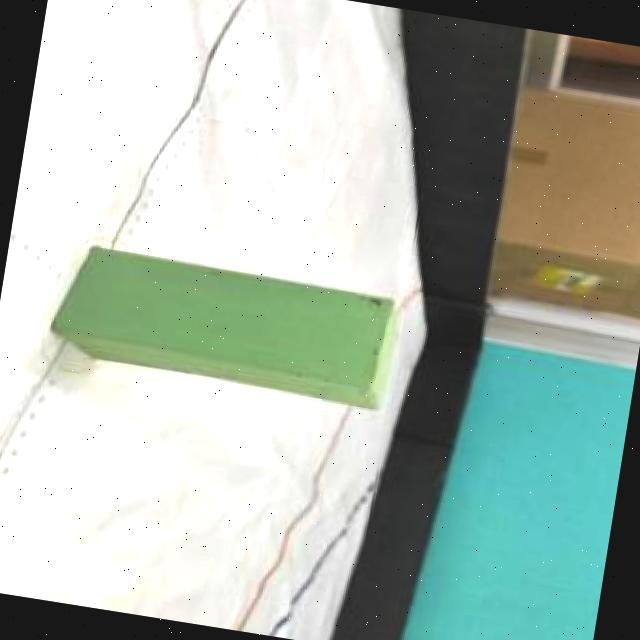greenbox: (44, 238, 408, 417)
